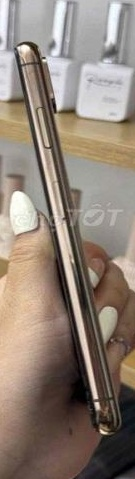scratch: (87, 398, 131, 429)
